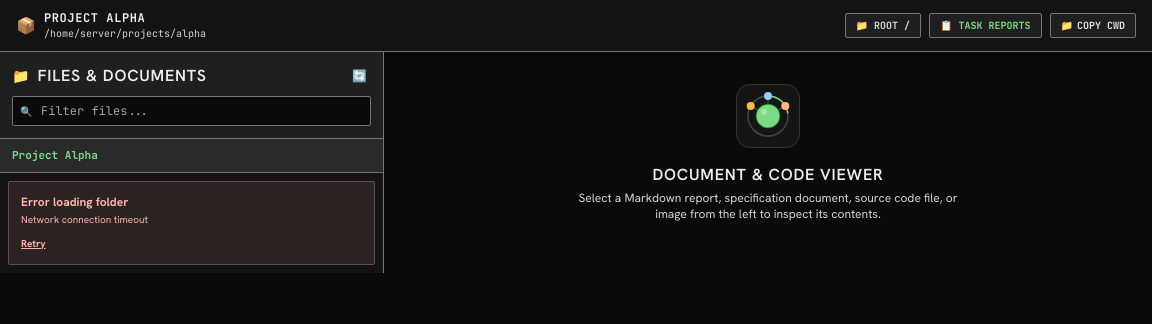
Test: ProjectExplorer Component › renders an error banner if listFiles fails and allows retry
Expected: the text "Error loading folder" is shown, [21,194,128,210]
Expected: the text "Network connection timeout" is shown, [21,212,148,226]
What coordinates should you click on to do the following:
click the button "Retry"
I would click on:
 (33, 244)
Its box is [21,236,46,252].
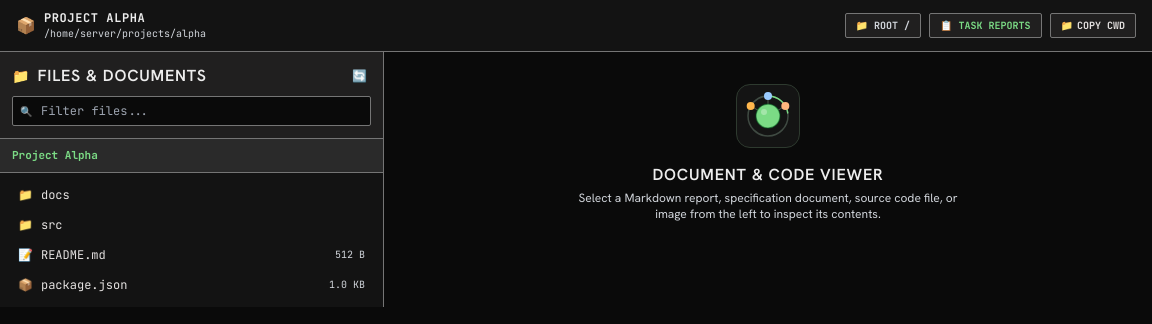
Expected: the text "README.md" is shown, [41,246,106,262]
